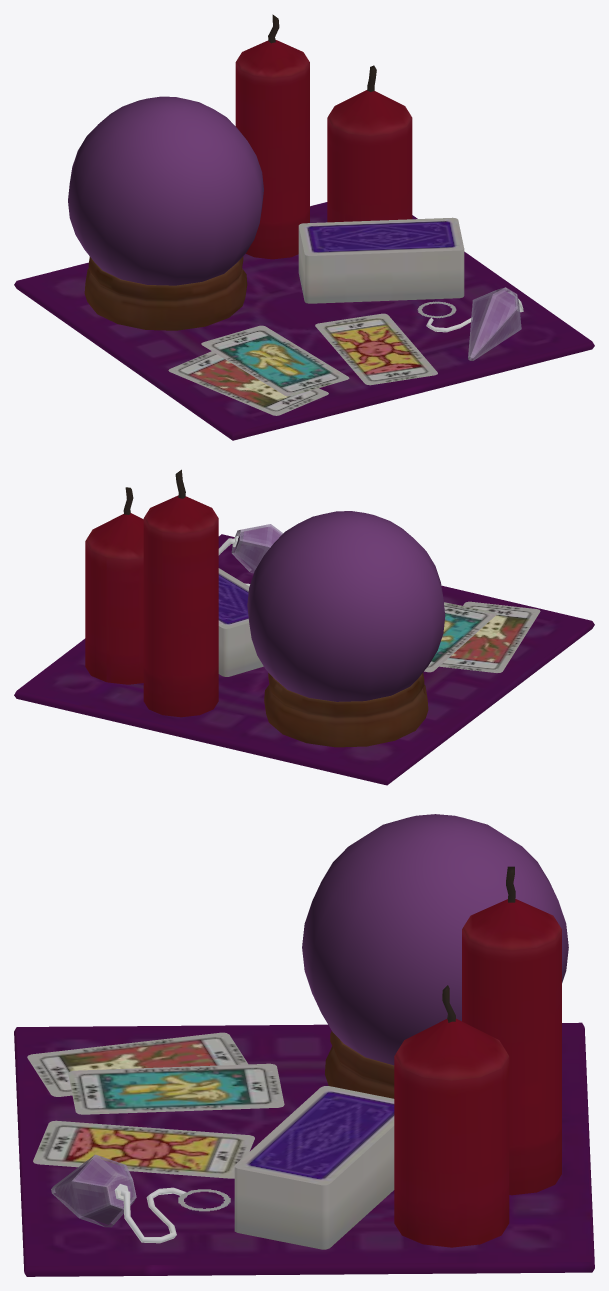
The picture shows the model from 3 angles, top to bottom: view 1: azimuth 30°, elevation 25°; view 2: azimuth 150°, elevation 25°; view 3: azimuth 270°, elevation 25°; orthographic projection. The views are drawn at different scales.
Size of the model in its own units: 8.8 by 5.33 by 8.8.
Materials: 4 (3 with a texture image).
